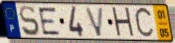4: (67, 5, 85, 39)
C: (133, 6, 156, 41)
E: (37, 6, 63, 37)
H: (110, 6, 136, 40)
S: (18, 4, 41, 38)
V: (84, 6, 105, 38)
